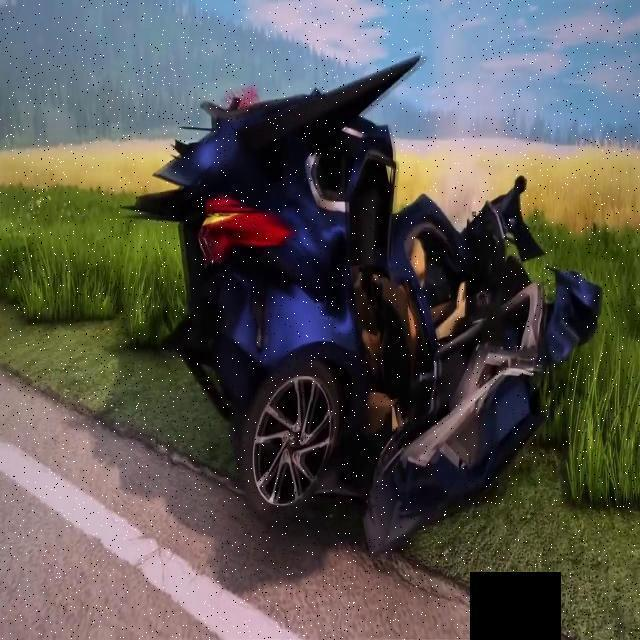person: (137, 53, 606, 524)
